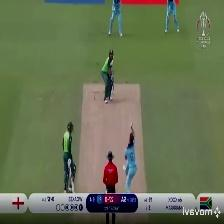batsman: (96, 47, 122, 107)
